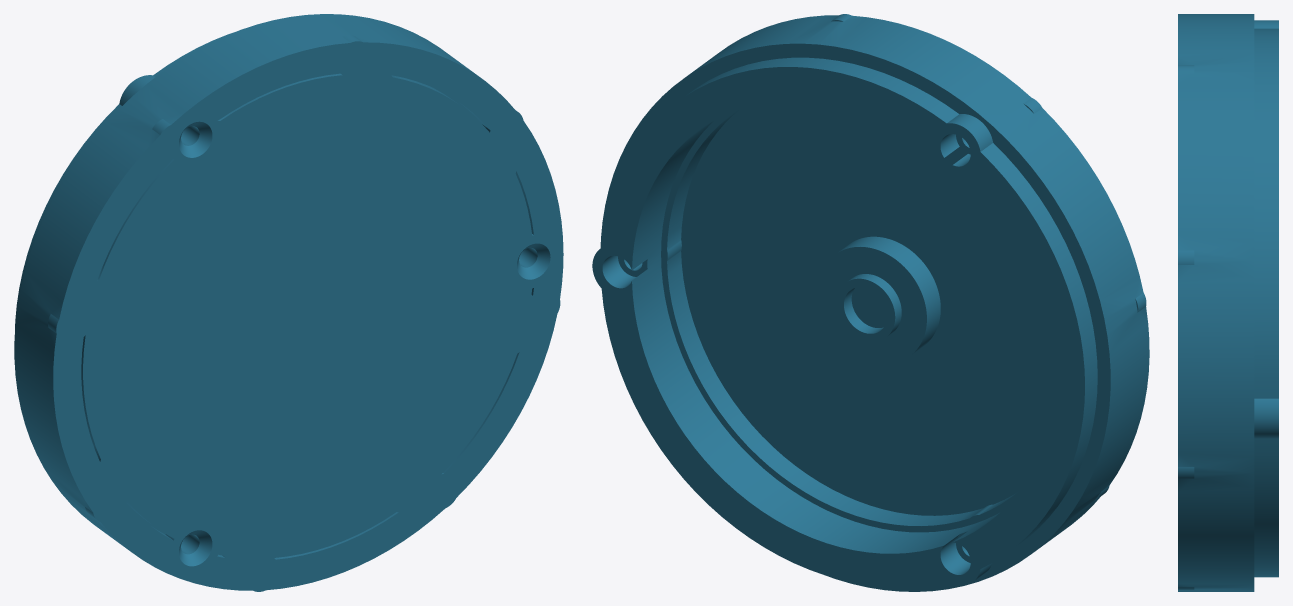
File: Cap_turbine_wheel.obj
The picture shows the model from 3 angles, left to right: view 1: azimuth 30°, elevation 25°; view 2: azimuth 150°, elevation 25°; view 3: azimuth 270°, elevation 25°; orthographic projection.
Visible parts, largest first — view 1: Cap_turbine_wheel; view 2: Cap_turbine_wheel; view 3: Cap_turbine_wheel.
Boxes of the visible parts, x1,y1,x2,y2 form: Cap_turbine_wheel: (14, 14, 563, 591); Cap_turbine_wheel: (592, 14, 1149, 591); Cap_turbine_wheel: (1178, 14, 1278, 591).
Size of the model in its own units: 60.7 by 60.69 by 10.6.
